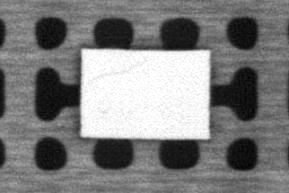DIE_CRACK: (89, 60, 143, 83)
